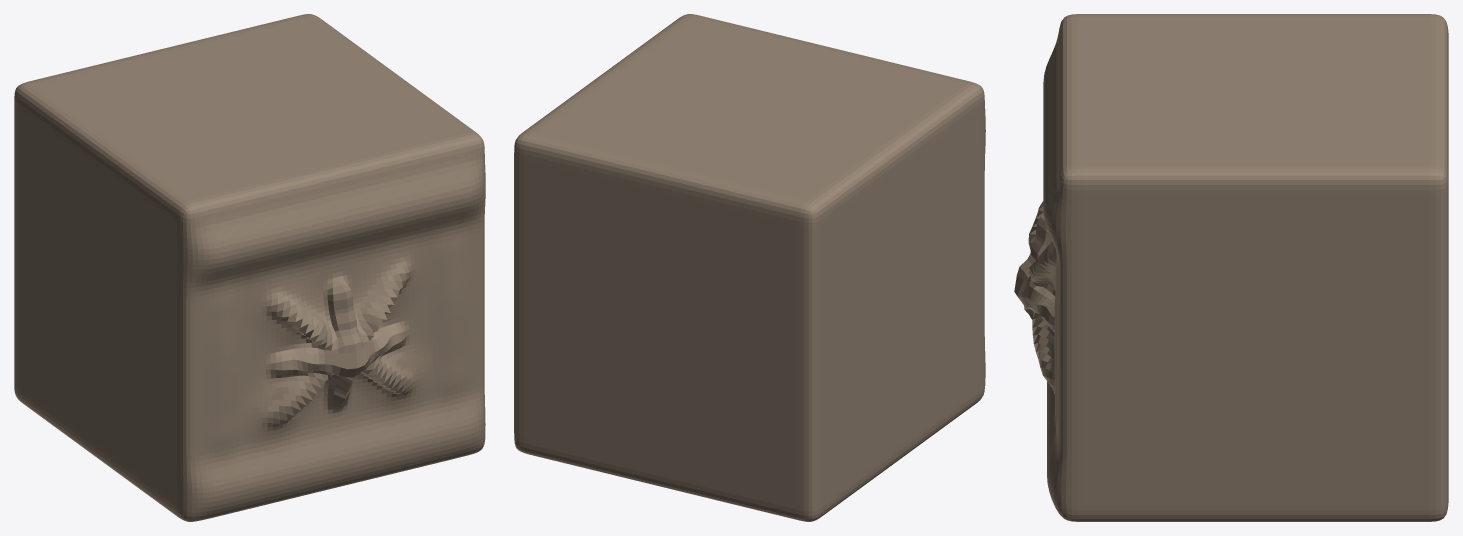
File: MazeWall1.fbx
The picture shows the model from 3 angles, left to right: view 1: azimuth 30°, elevation 25°; view 2: azimuth 150°, elevation 25°; view 3: azimuth 270°, elevation 25°; orthographic projection. The views are drawn at different scales.
Visible parts, largest first — view 1: Cube; view 2: Cube; view 3: Cube.
Boxes of the visible parts, x1,y1,x2,y2 form: Cube: [14, 14, 485, 521]; Cube: [514, 14, 985, 521]; Cube: [1014, 14, 1448, 521].
Bounding box in the file's own units: 200 × 200 × 223.
